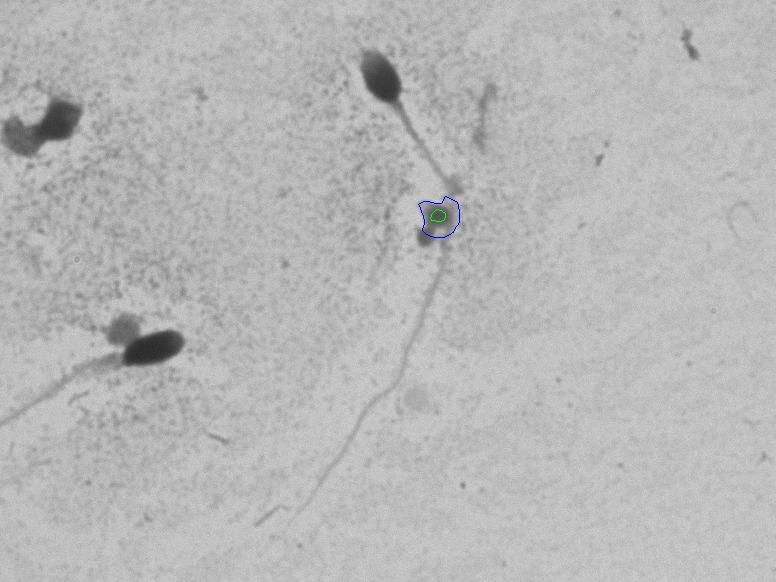Abnormal: (24, 274, 206, 436)
Normal: (257, 23, 540, 534)
